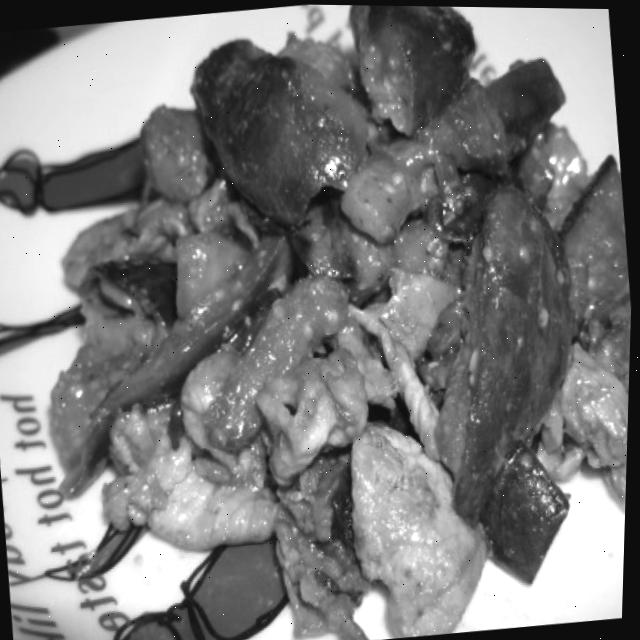鸡蛋料理: (25, 0, 640, 634)
